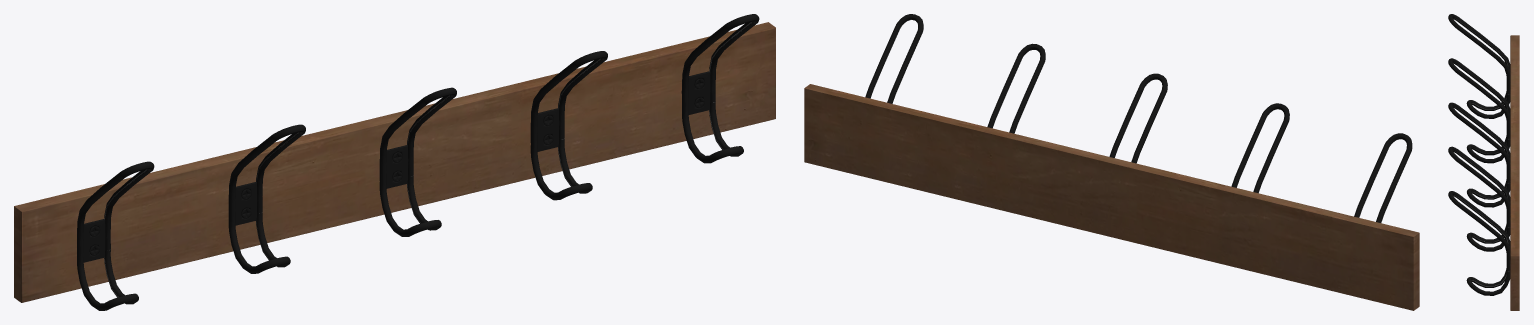
The model's file is abo-b07b8ny189.30c7e52d08.glb.
3 renders of one model, left to right at view 1: azimuth 30°, elevation 25°; view 2: azimuth 150°, elevation 25°; view 3: azimuth 270°, elevation 25°, orthographic. The views are drawn at different scales.
Visible parts, largest first — view 1: RootNode; view 2: RootNode; view 3: RootNode.
Part boxes in pixels (box(x1,y1,x2,y2)): RootNode: box(14, 14, 775, 310); RootNode: box(804, 14, 1419, 310); RootNode: box(1448, 14, 1519, 310).
Size of the model in its own units: 0.554 by 0.1165 by 0.0759.
1 material, 1 textured.
